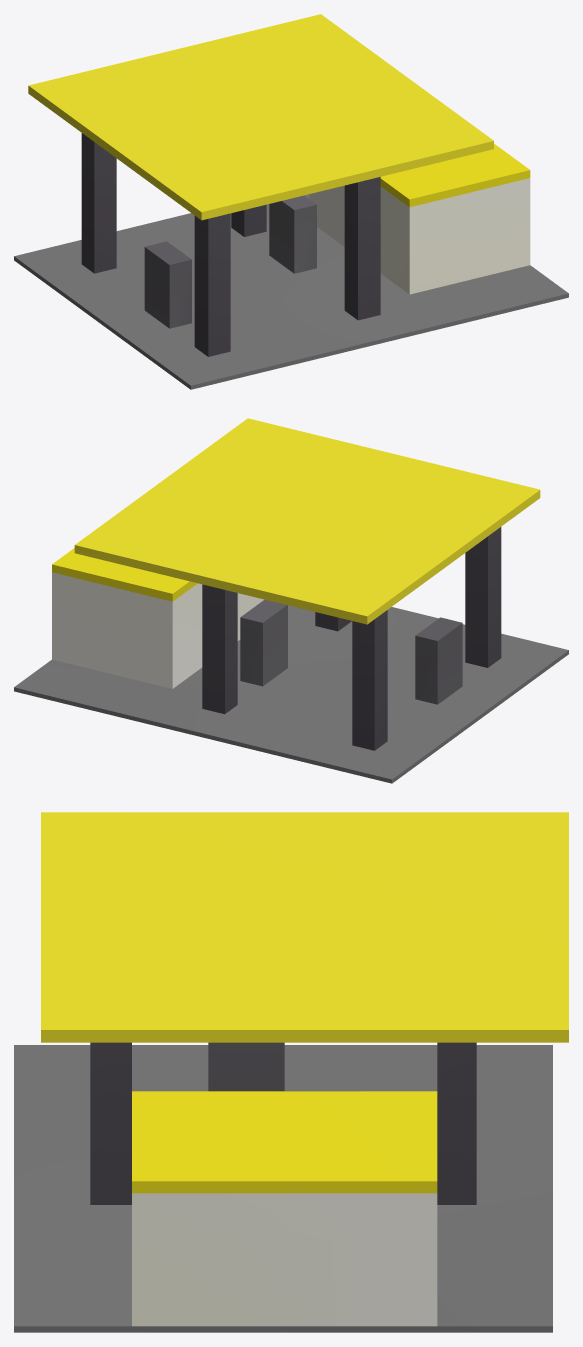
Rendered from gas_station.FBX.
3 views of the same model, one above another, from view 1: azimuth 30°, elevation 25°; view 2: azimuth 150°, elevation 25°; view 3: azimuth 270°, elevation 25° (orthographic). The views are drawn at different scales.
Visible parts, largest first — view 1: Box003; view 2: Box003; view 3: Box003.
Part boxes in pixels (<box>): Box003: <box>14,14,568,389</box>; Box003: <box>14,418,568,783</box>; Box003: <box>14,812,568,1332</box>.
Size of the model in its own units: 51.25 by 21.54 by 42.74.
